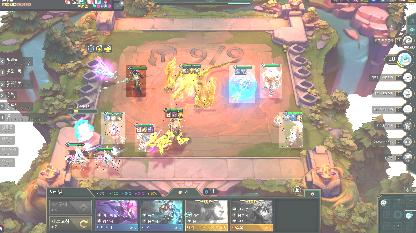1_soraka: (94, 146, 120, 172)
2_jax: (229, 65, 255, 103)
2_joy: (279, 112, 303, 148)
2_nasus: (126, 65, 146, 97)
2_soraka: (65, 144, 89, 170)
2_twitch: (135, 124, 155, 152)
2_volibear: (260, 64, 282, 98)
2_xayah: (101, 112, 125, 144)
3_idas: (170, 65, 210, 109)
3_jayce: (163, 106, 185, 152)
